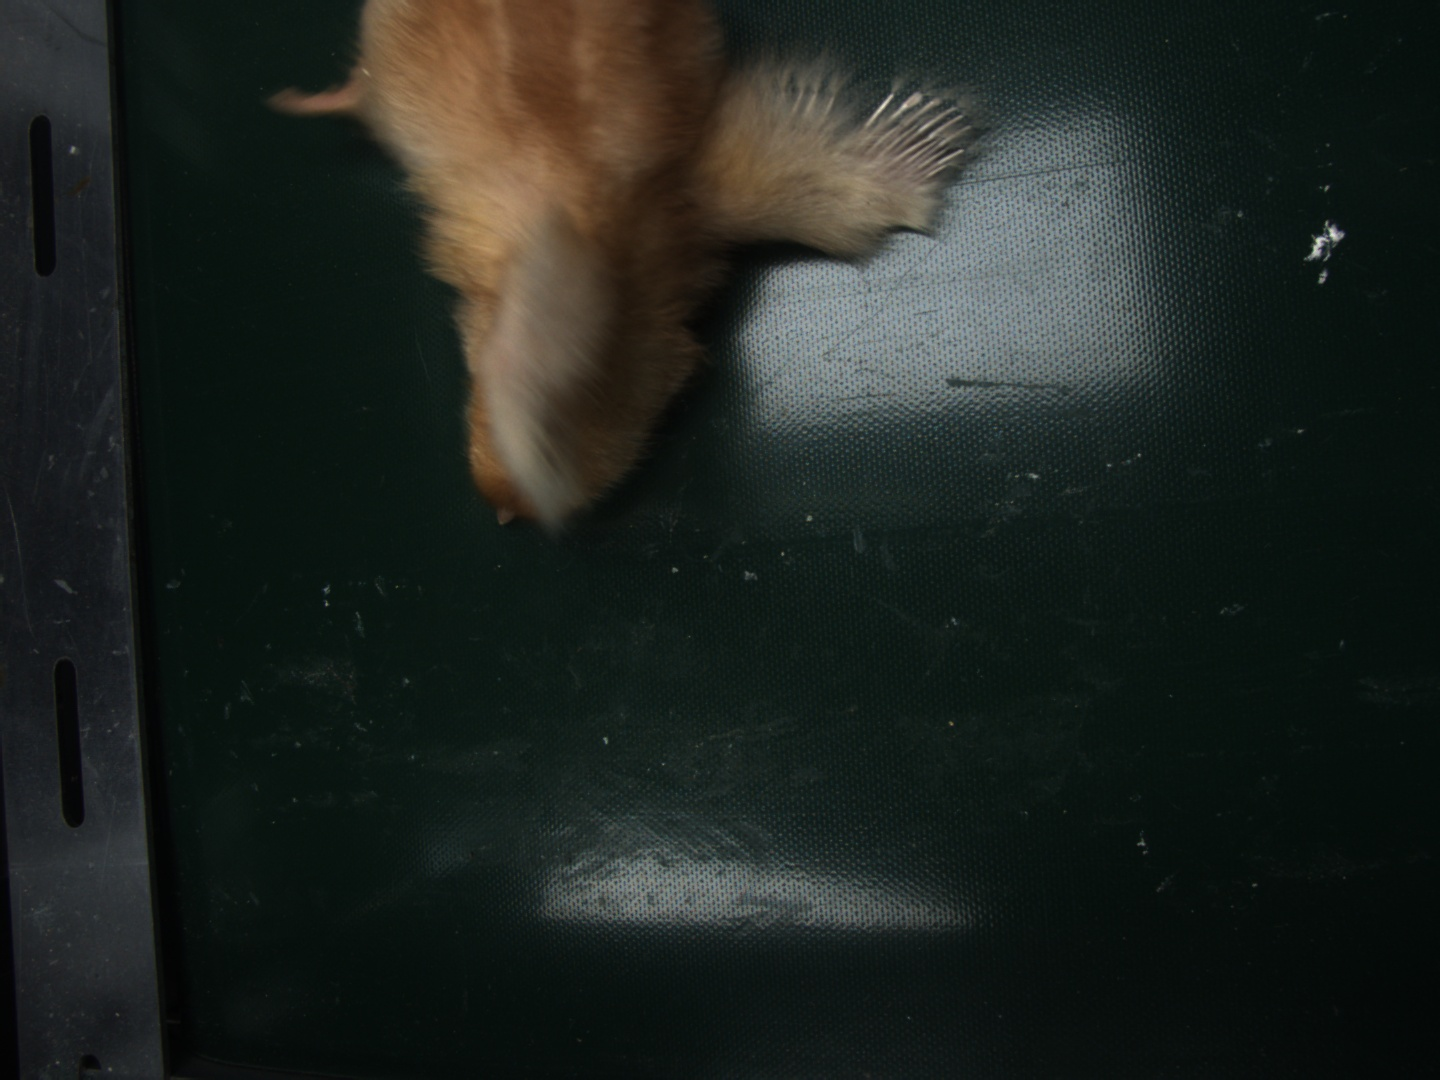female: (850, 88, 975, 195)
